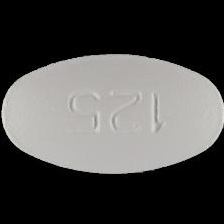55111-125: (0, 0, 224, 224)
